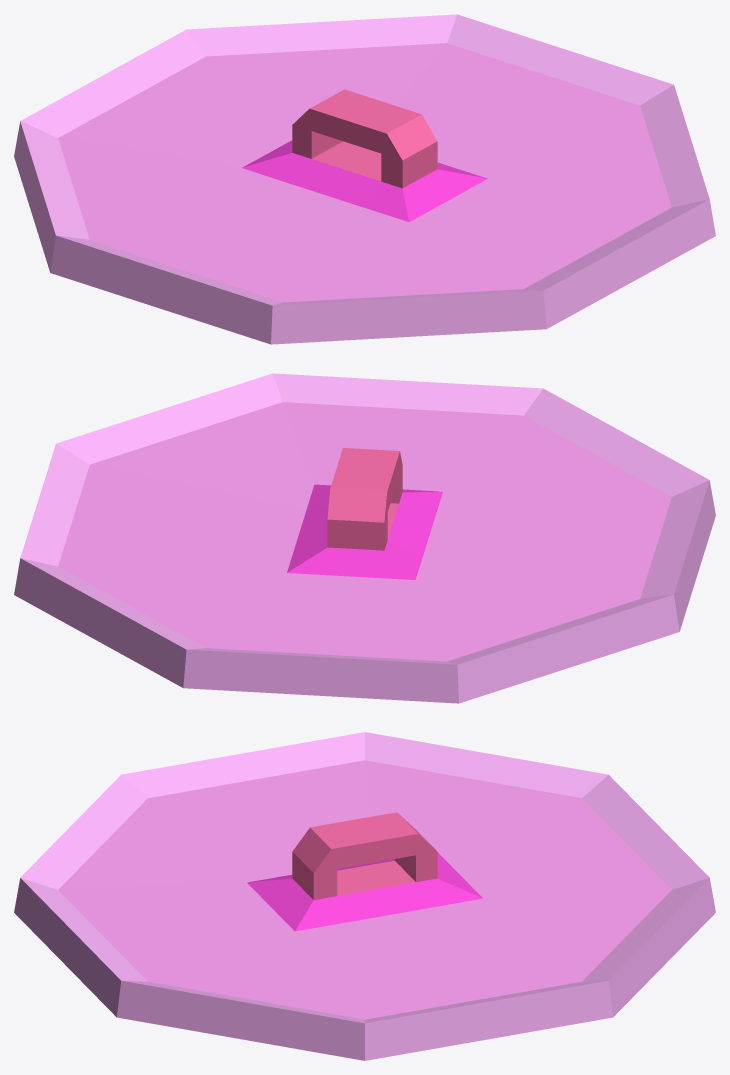
File: tapa_Basura.fbx
3 renders of one model, top to bottom at view 1: azimuth 30°, elevation 25°; view 2: azimuth 150°, elevation 25°; view 3: azimuth 270°, elevation 25°, orthographic. The views are drawn at different scales.
Visible parts, largest first — view 1: CanecaTapa; view 2: CanecaTapa; view 3: CanecaTapa.
Boxes of the visible parts, x1,y1,x2,y2 form: CanecaTapa: (14,14,715,344); CanecaTapa: (14,373,715,703); CanecaTapa: (14,732,715,1060).
Size of the model in its own units: 213 by 27.48 by 213.
1 material, 1 textured.
